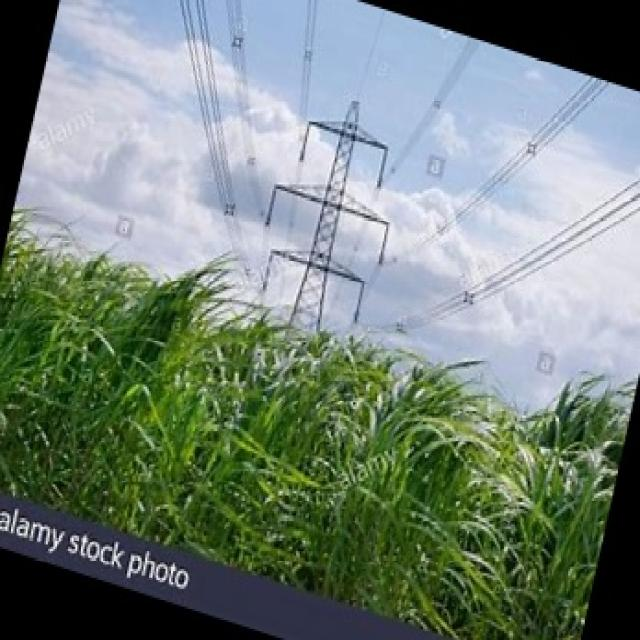utility poles: (263, 82, 383, 568)
